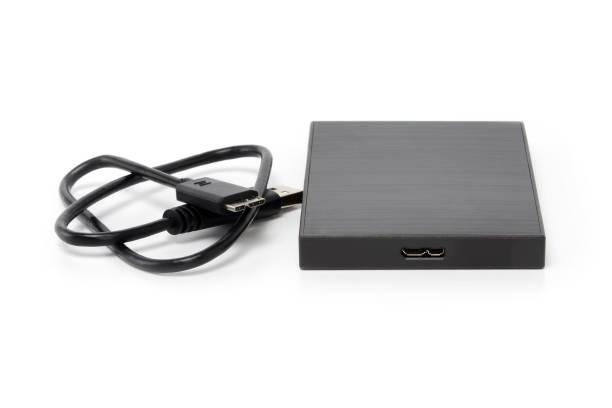HDD: (297, 121, 546, 272)
